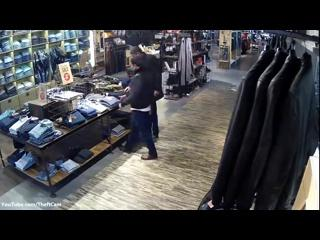Normal: (197, 46, 319, 208), (118, 52, 158, 160)
